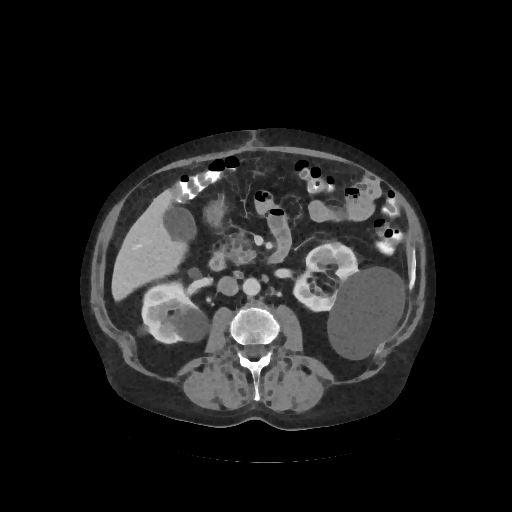Lesion: (330, 239, 343, 251)
